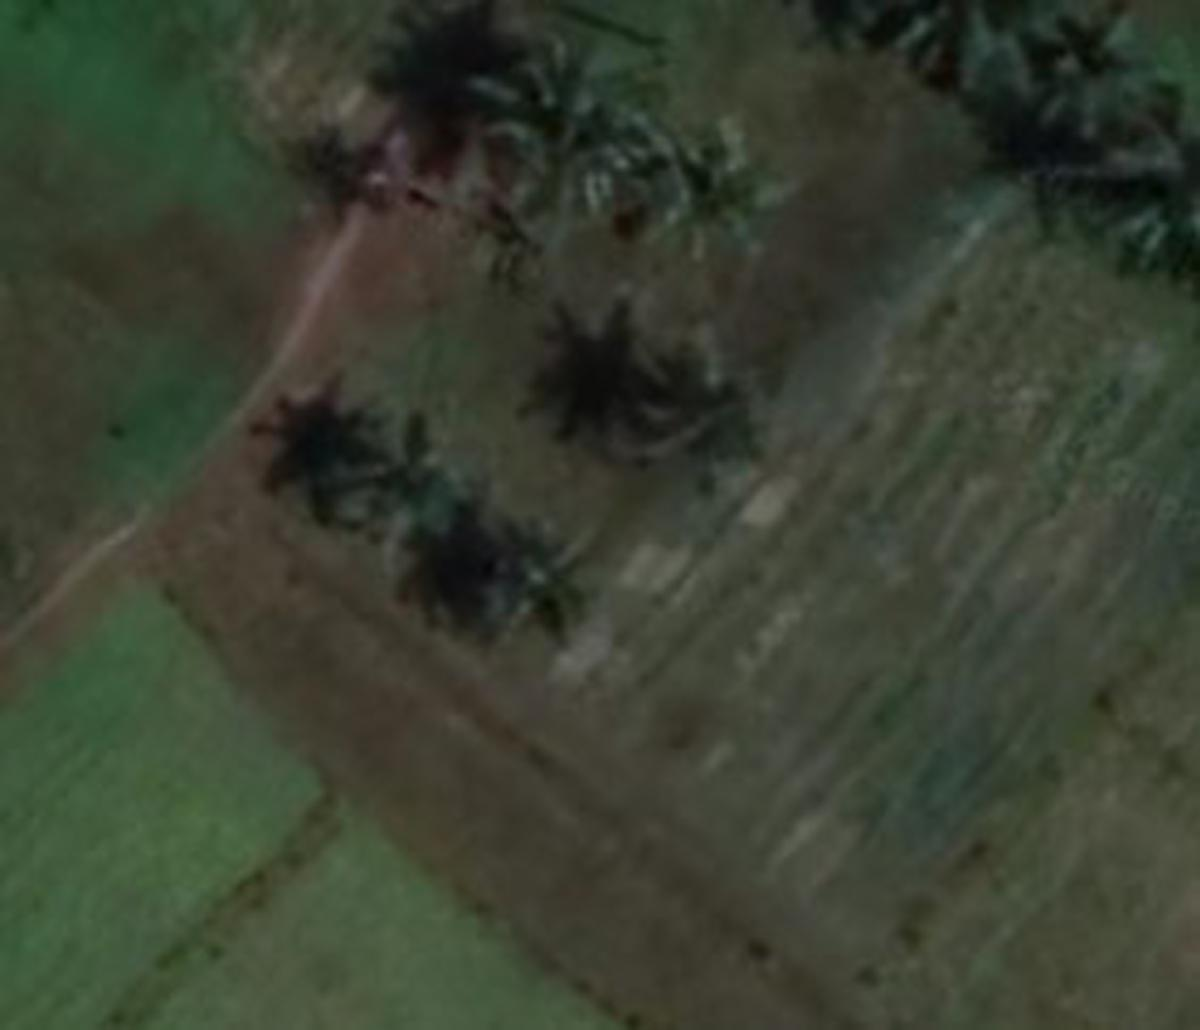coconut: (642, 314, 808, 472), (489, 51, 659, 200), (327, 400, 480, 553), (646, 114, 778, 263), (489, 502, 624, 621)
